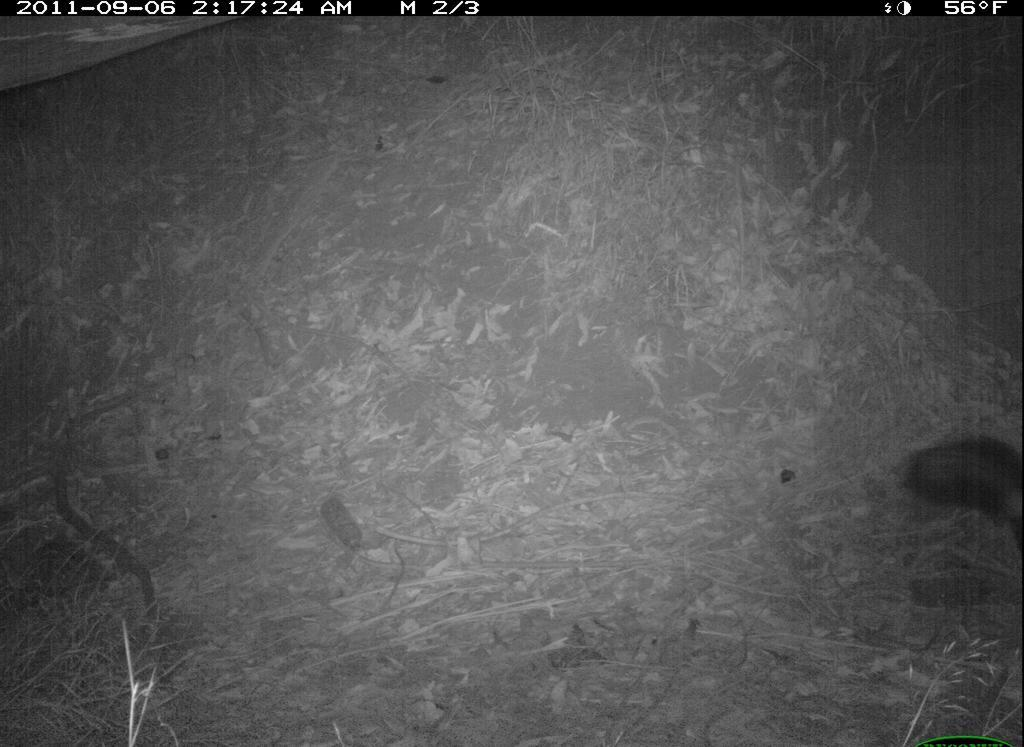skunk: (885, 431, 1024, 584)
